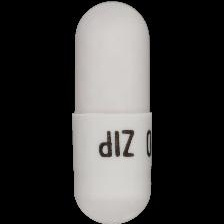68084-105: (0, 0, 224, 224)
